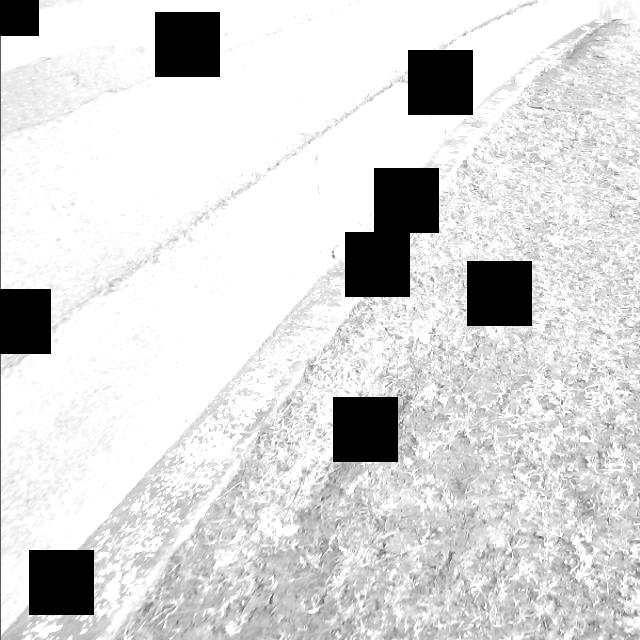DITCH: (3, 2, 638, 638)
